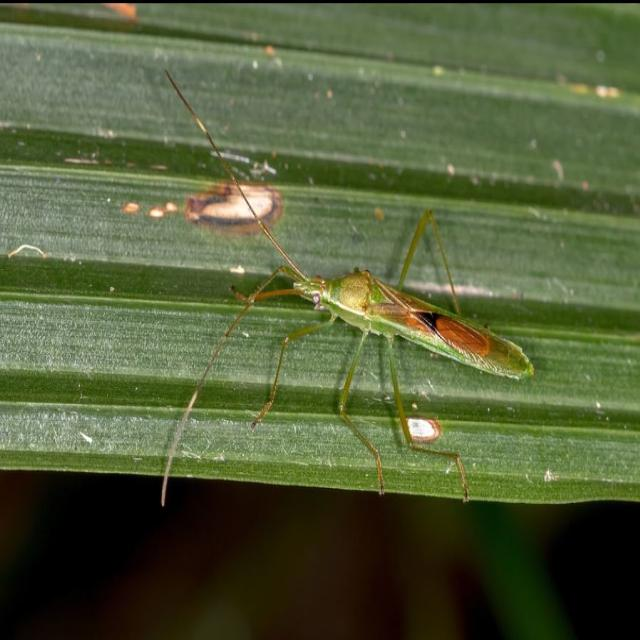walang sangit pada tanaman padi: (143, 52, 564, 550)
